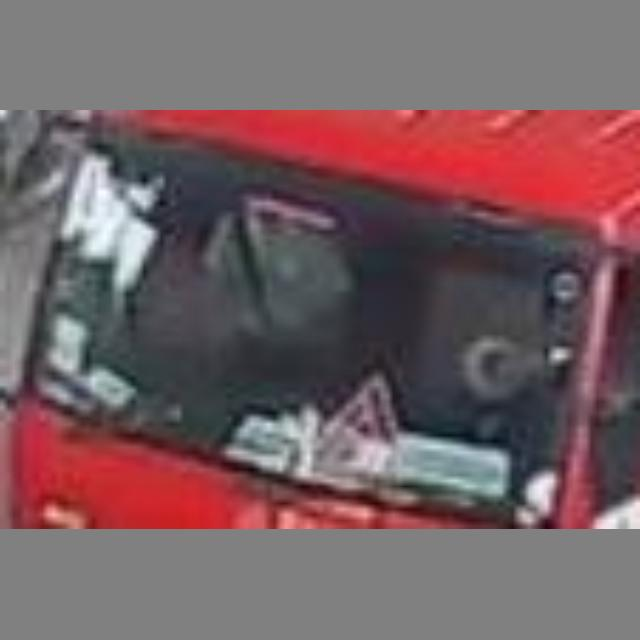pakai: (181, 201, 362, 354)
